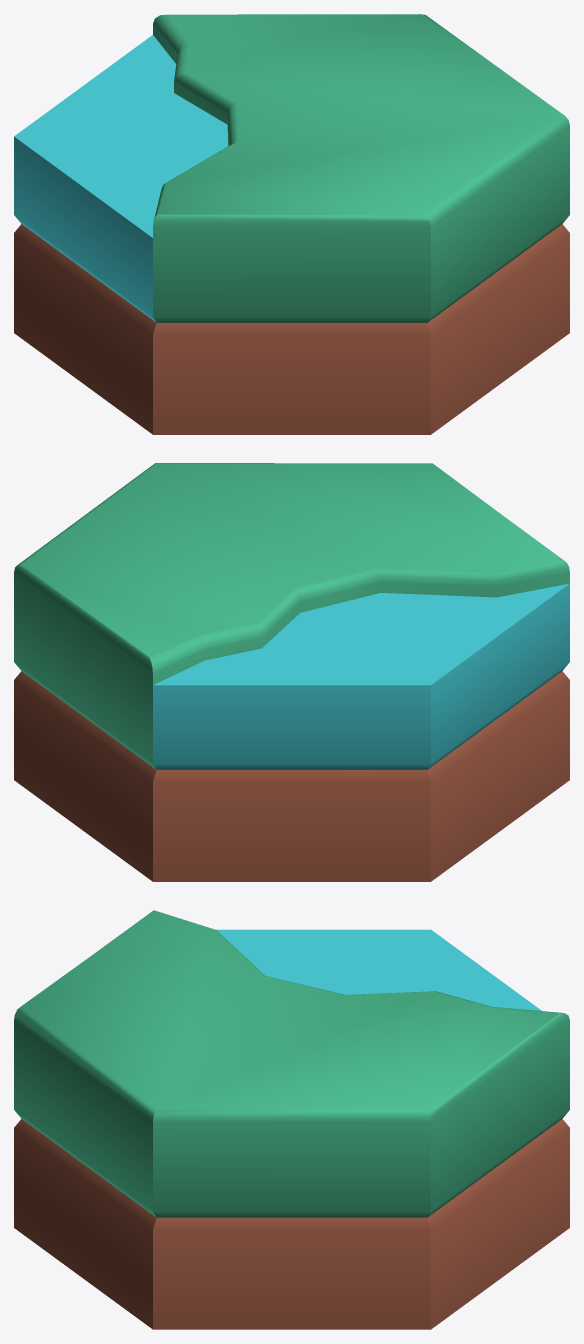
The model's file is hex_forest_waterD_detail.glb.
The picture shows the model from 3 angles, top to bottom: view 1: azimuth 30°, elevation 25°; view 2: azimuth 150°, elevation 25°; view 3: azimuth 270°, elevation 25°; orthographic projection.
Parts seen in each view (by area): view 1: hex_forest_waterD_detail; view 2: hex_forest_waterD_detail; view 3: hex_forest_waterD_detail.
Boxes of the visible parts, left/top/right/bottom form: hex_forest_waterD_detail: left=14, top=14, right=569, bottom=434; hex_forest_waterD_detail: left=14, top=463, right=569, bottom=881; hex_forest_waterD_detail: left=14, top=910, right=569, bottom=1329.
Size of the model in its own units: 3.82 by 1.91 by 4.41.
